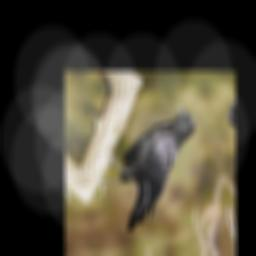Crow: (82, 101, 215, 235)
